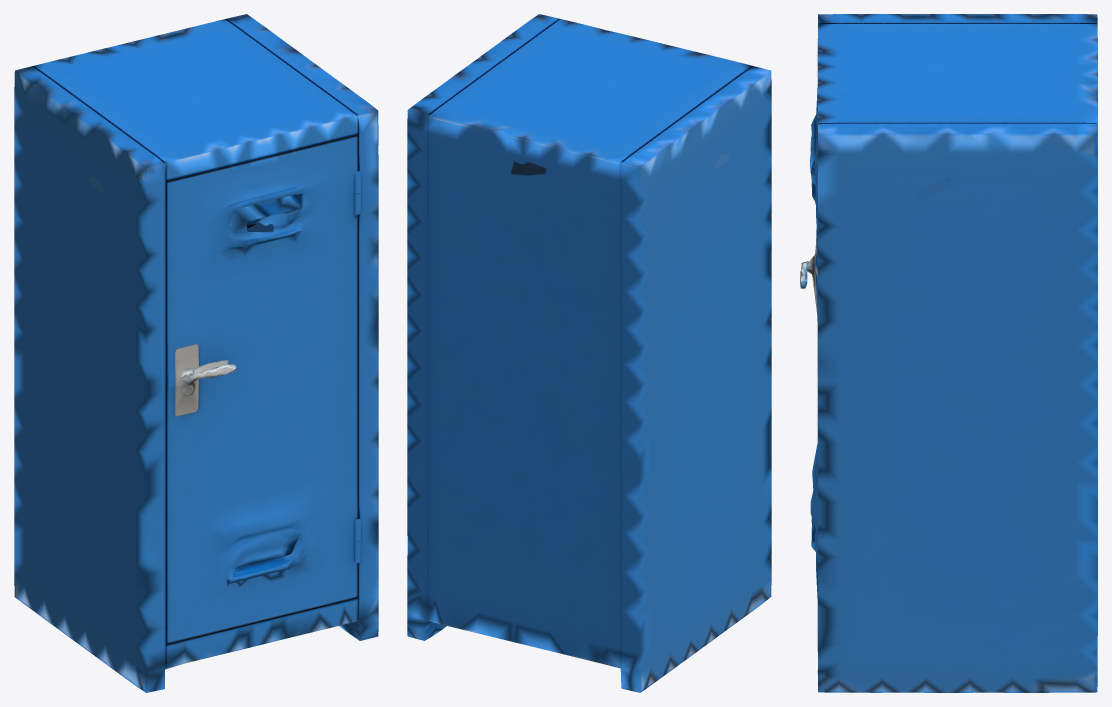
Rendered from Meshy_AI_Blue_Locker_0114123050_texture.fbx.
3 views of the same model, side by side, from view 1: azimuth 30°, elevation 25°; view 2: azimuth 150°, elevation 25°; view 3: azimuth 270°, elevation 25° (orthographic). The views are drawn at different scales.
Parts seen in each view (by area): view 1: Mesh0; view 2: Mesh0; view 3: Mesh0.
Part boxes in pixels (left/top/right/bottom): Mesh0: left=14, top=14, right=378, bottom=692; Mesh0: left=407, top=14, right=771, bottom=692; Mesh0: left=800, top=14, right=1097, bottom=692.
Size of the model in its own units: 88.45 by 191 by 92.29.
1 material, 1 textured.
